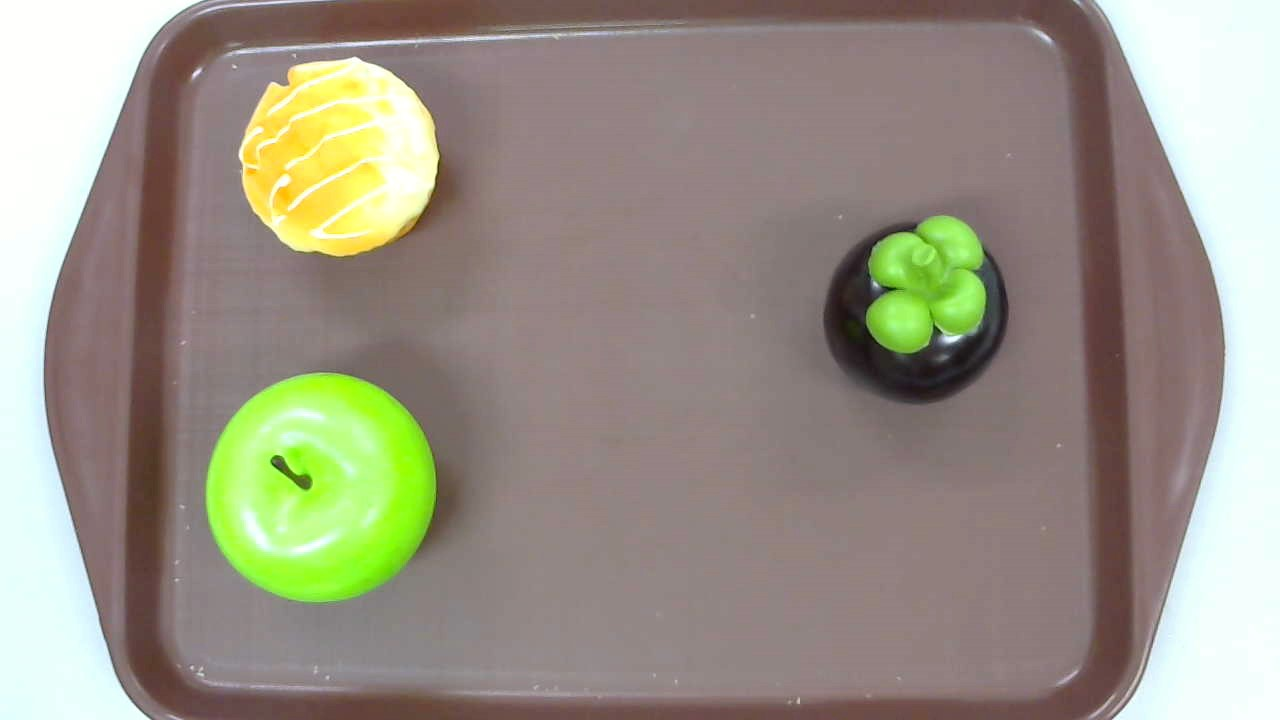cupcake: (238, 55, 441, 257)
green apple: (204, 370, 436, 603)
mangosteen: (822, 214, 1010, 407)
